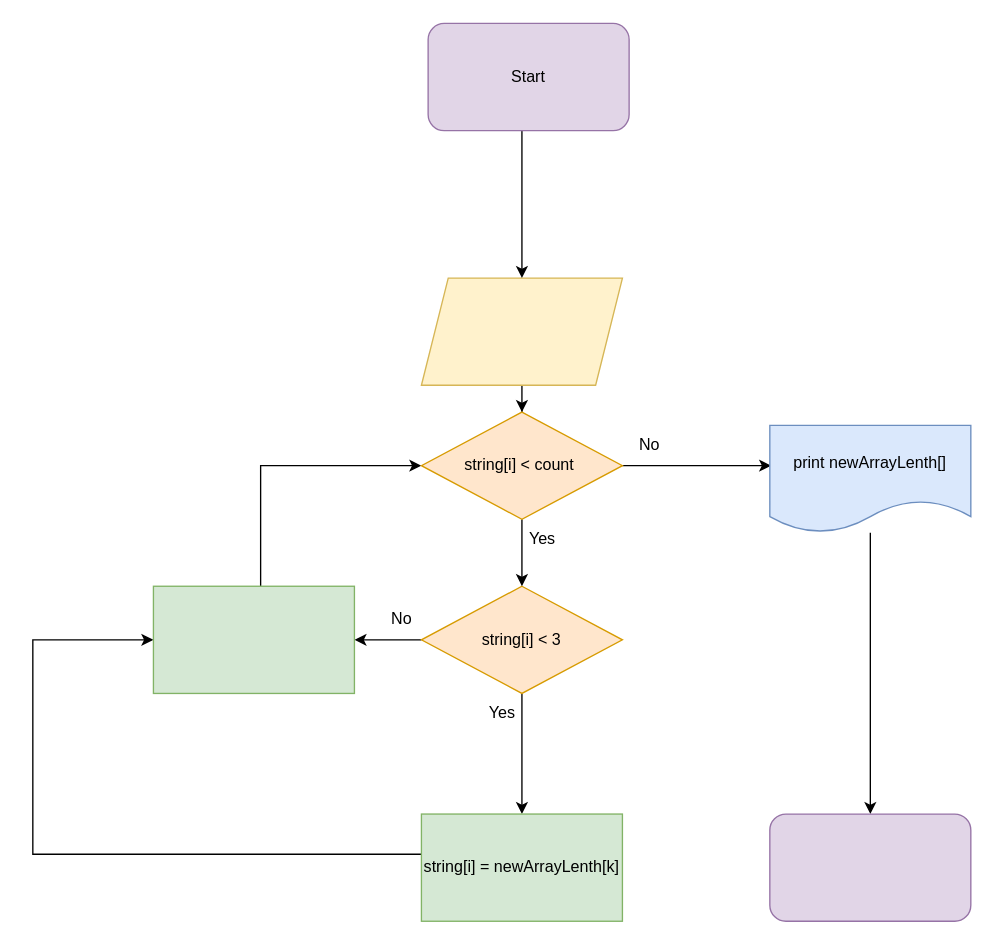
Image size: 994x945. Some labels were removed from this diagram. The shapes that lost their labels are listed below. From the top down, each one's centre as x and y in pixels, then its label:
the point at 521,331: string[] = newArrayLenth = 0
the point at 253,639: i++
the point at 869,867: end
